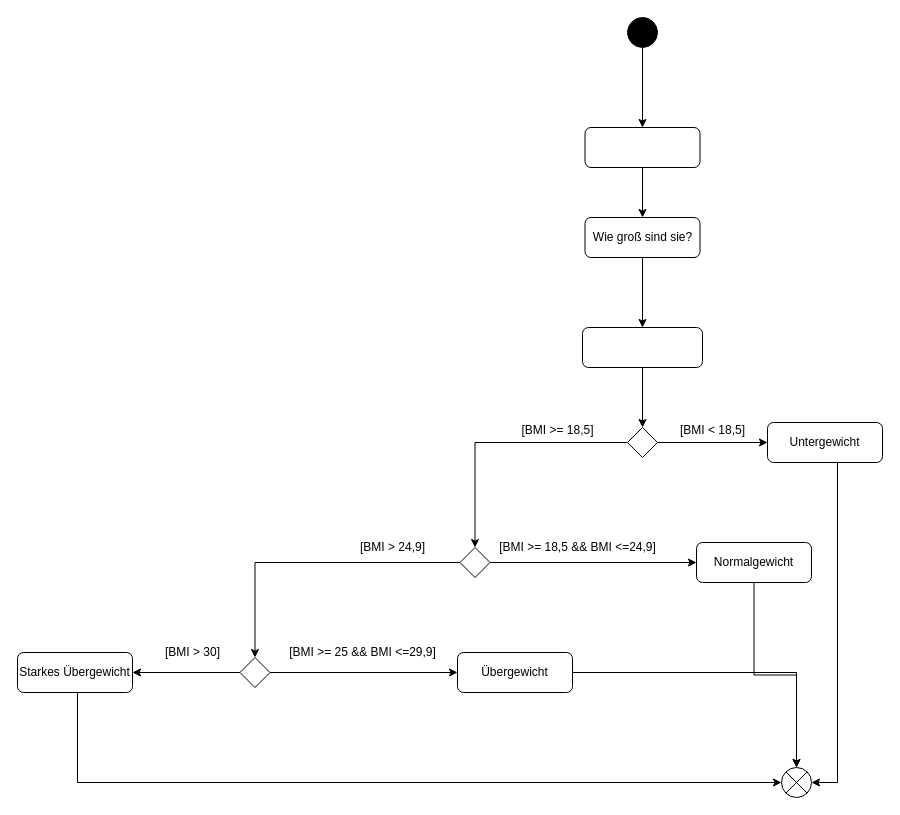
Image size: 900x815. Some labels were removed from this diagram. Here are the shapes that lost their labels. From the top down, the centre of each, then its label:
(642,147): Wie viel wiegen Sie?
(642,347): BMI = Körpergewicht / größe
